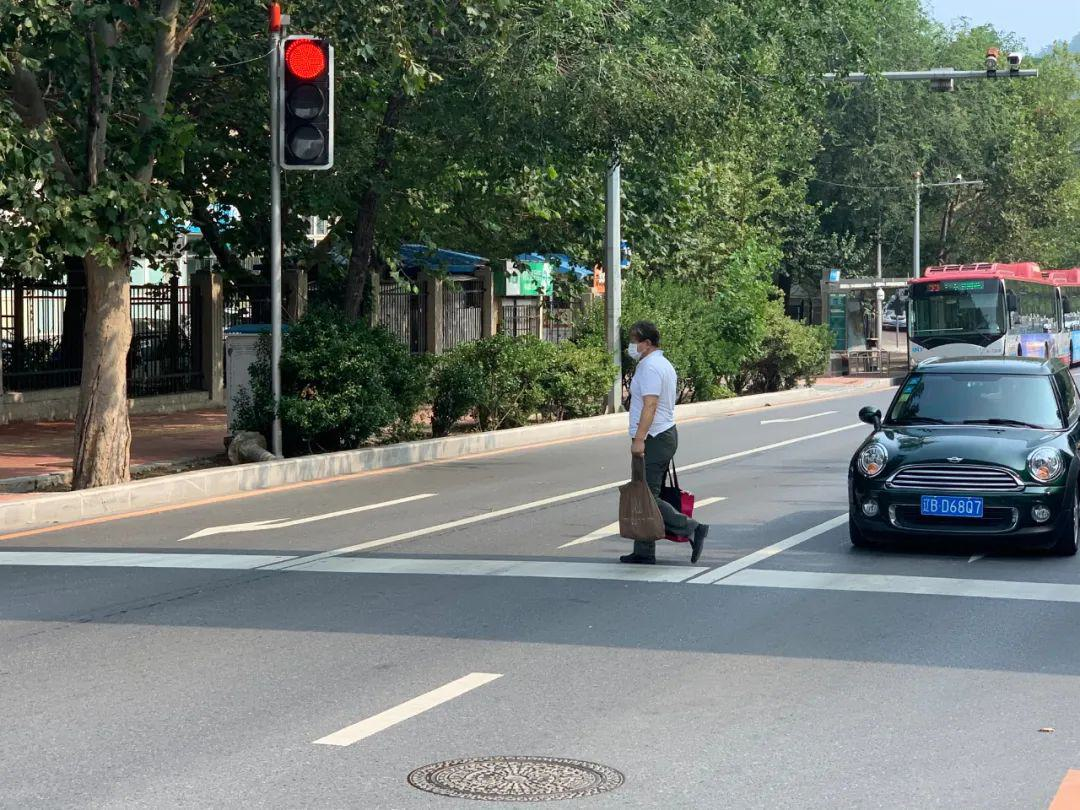bus: (877, 248, 1080, 371)
car: (848, 340, 1071, 563)
person: (624, 327, 700, 573)
